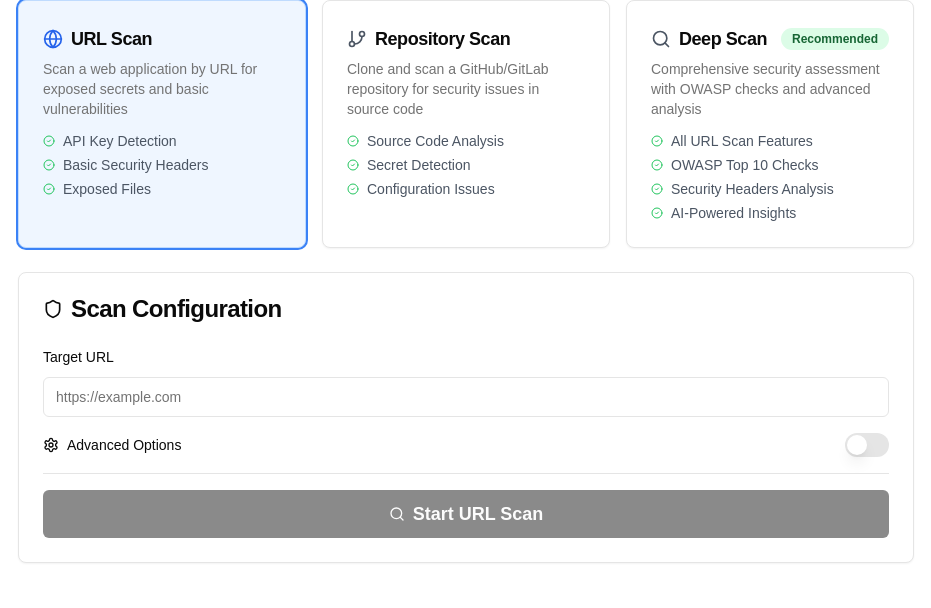
Test: ScanTypeSelector › prevents scan with invalid URL
# Enter invalid URL
Type "invalid-url" into the field labelled "Target URL" at point(466, 397), box [43,377,889,417]
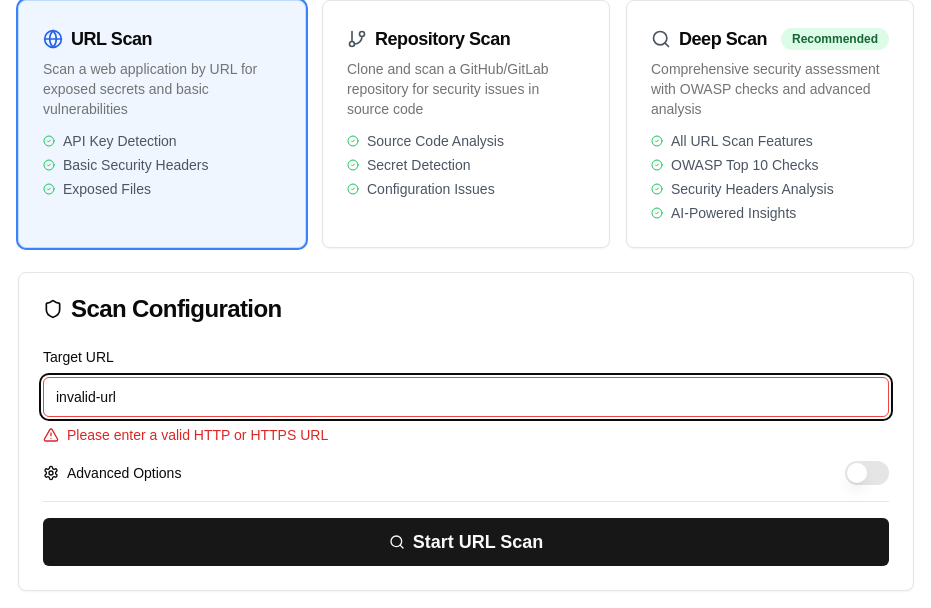
# Try to click scan button
Click the button "Start URL Scan" at point(466, 542), box [43,518,889,566]
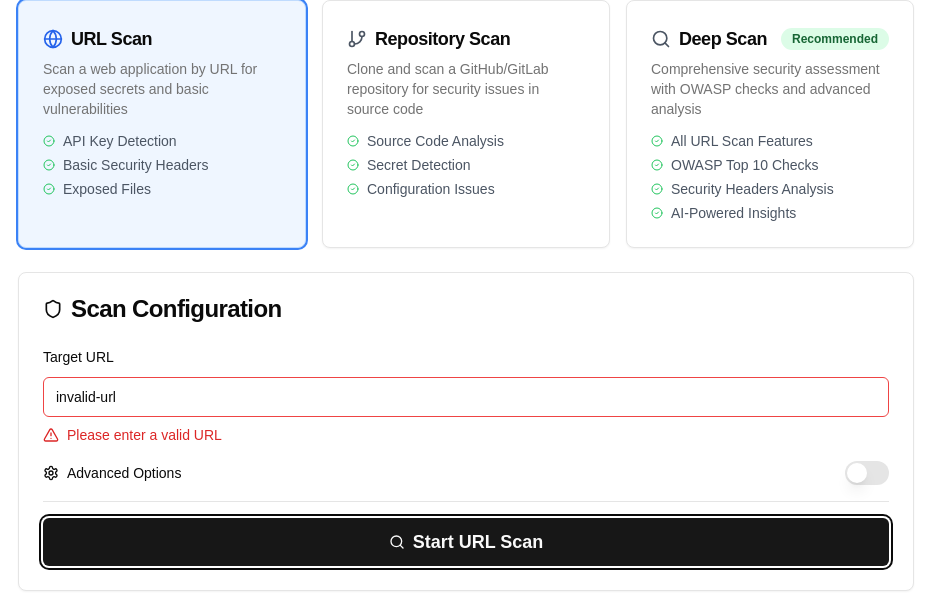
Expected: the text "Please enter a valid URL" is shown, [67,425,222,445]
